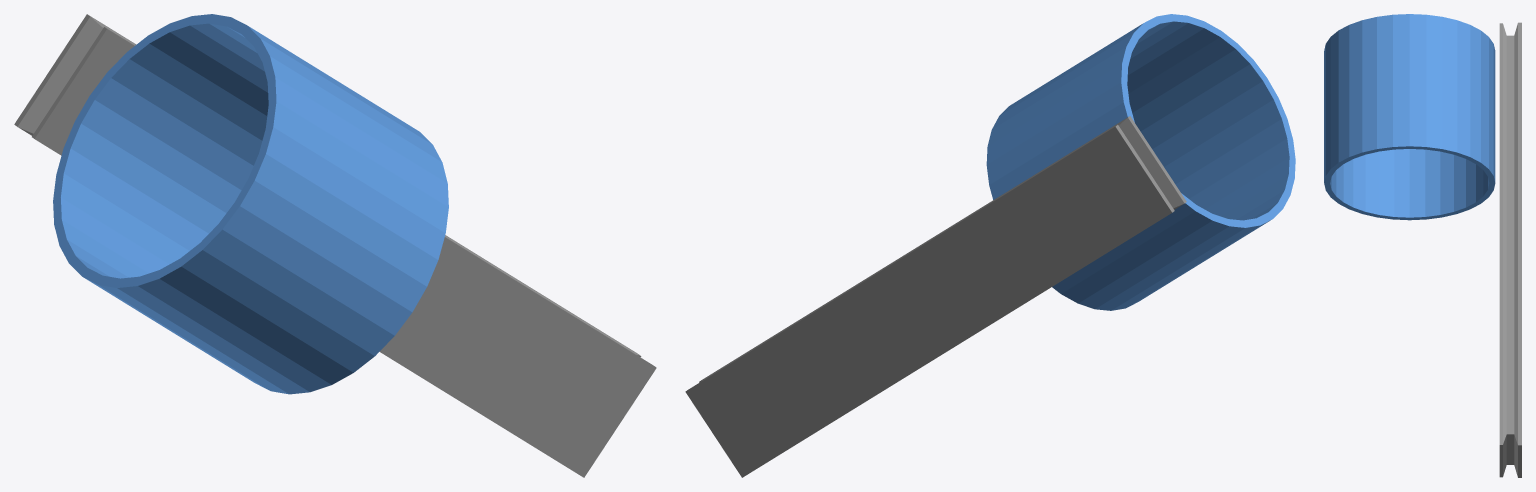
The model's file is top.glb.
The picture shows the model from 3 angles, left to right: view 1: azimuth 30°, elevation 25°; view 2: azimuth 150°, elevation 25°; view 3: azimuth 270°, elevation 25°; orthographic projection. The views are drawn at different scales.
Parts seen in each view (by area): view 1: TopAndRail; view 2: TopAndRail; view 3: TopAndRail.
Boxes of the visible parts, left/top/right/bottom form: TopAndRail: left=14, top=14, right=656, bottom=477; TopAndRail: left=685, top=14, right=1295, bottom=477; TopAndRail: left=1324, top=14, right=1521, bottom=477.
Size of the model in its own units: 0.5023 by 0.449 by 0.2309.
